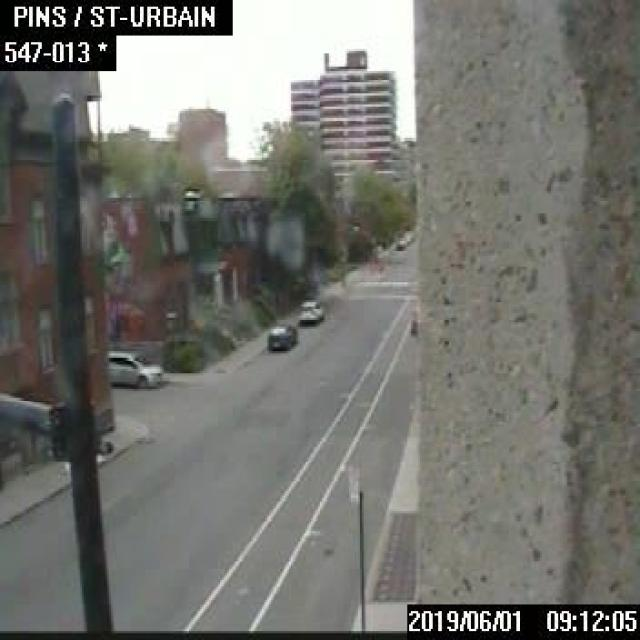vehicle: (104, 347, 164, 388), (266, 321, 296, 351), (298, 298, 323, 322), (394, 237, 406, 249)
